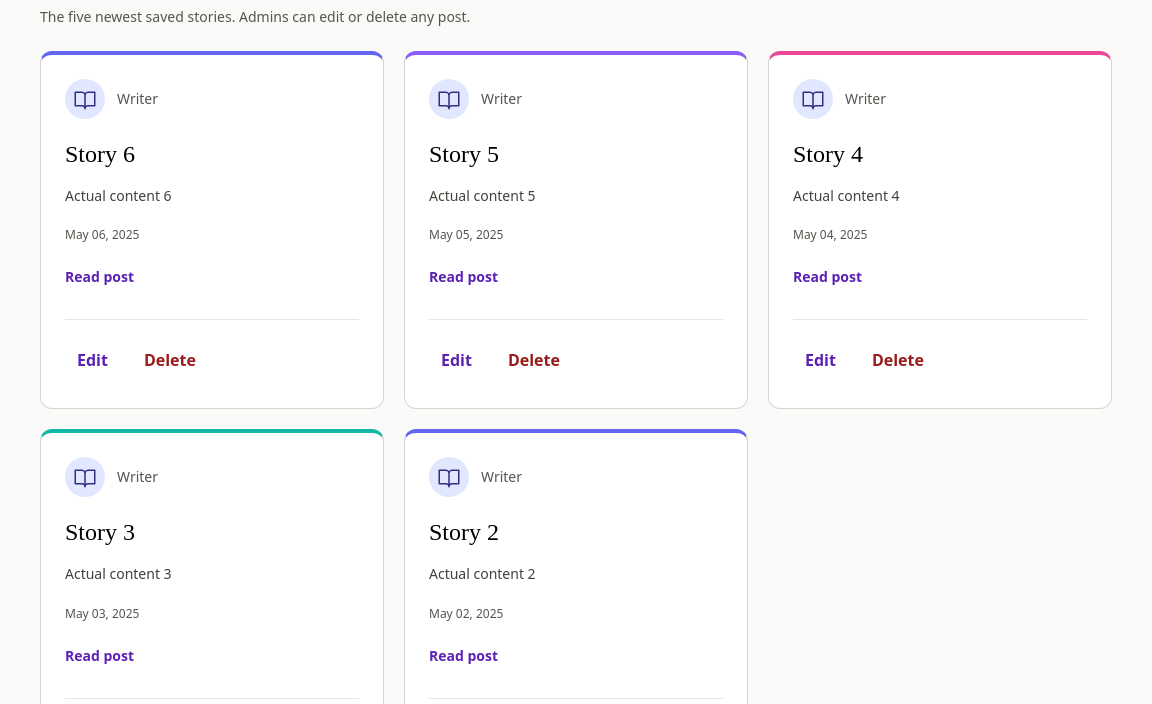
AdminDashboard › preserves counts/list on cancellation or failed deletion, then updates both after confirmed success
(page scrolled)
Click the button "Delete" below "May 06, 2025".
click(170, 360)  # box [132,336,208,384]
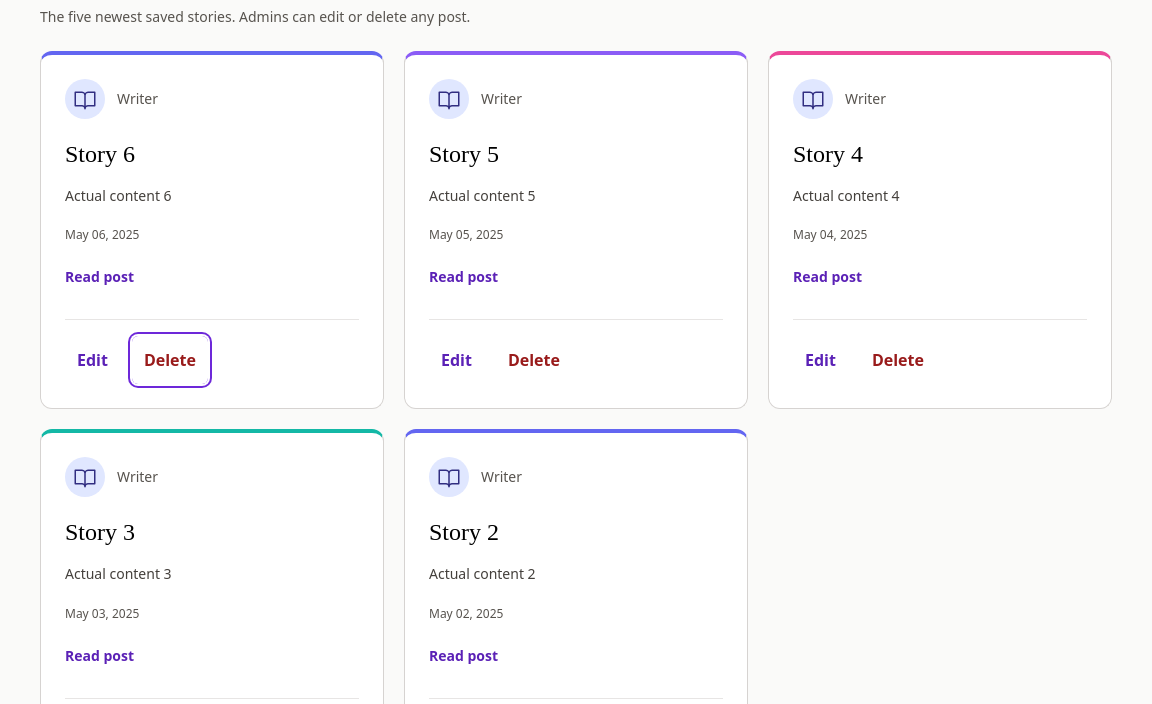
Click the button "Delete" below "May 06, 2025".
click(170, 360)  # box [132,336,208,384]
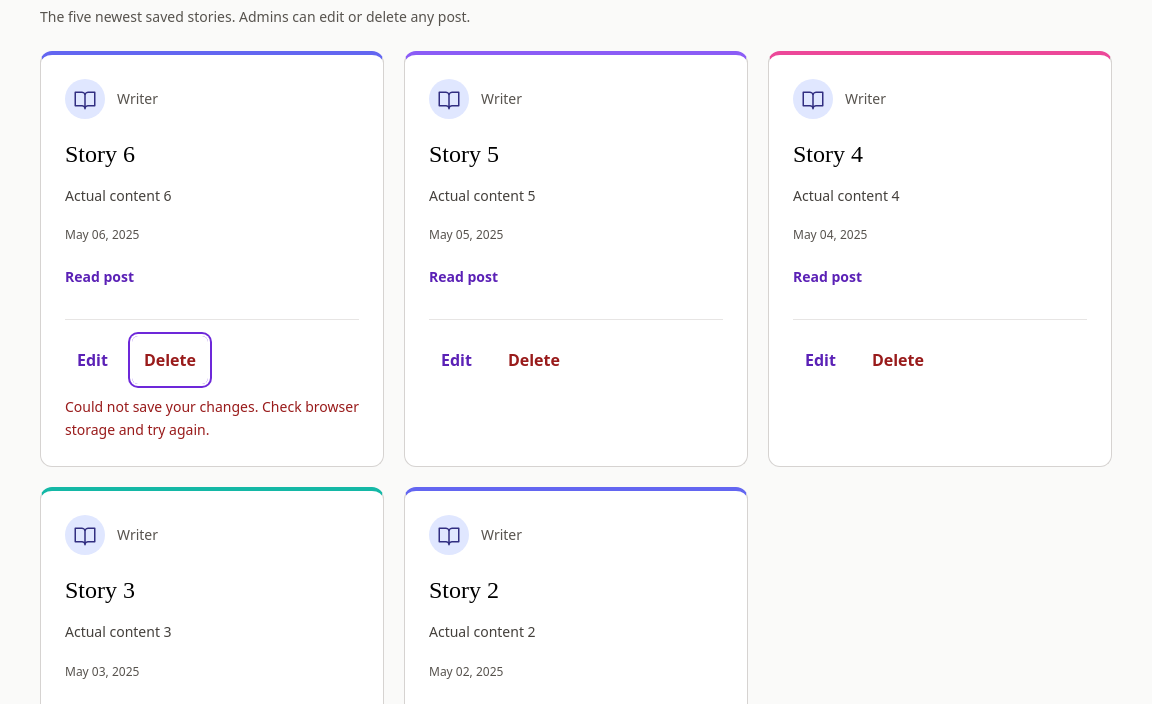
Expected: the heading "Story 6" is shown, [65,140,135,166]
Now the message shows "Could not save your changes.", box [65,397,359,439]
Click the button "Delete" below "May 06, 2025".
click(170, 360)  # box [132,336,208,384]
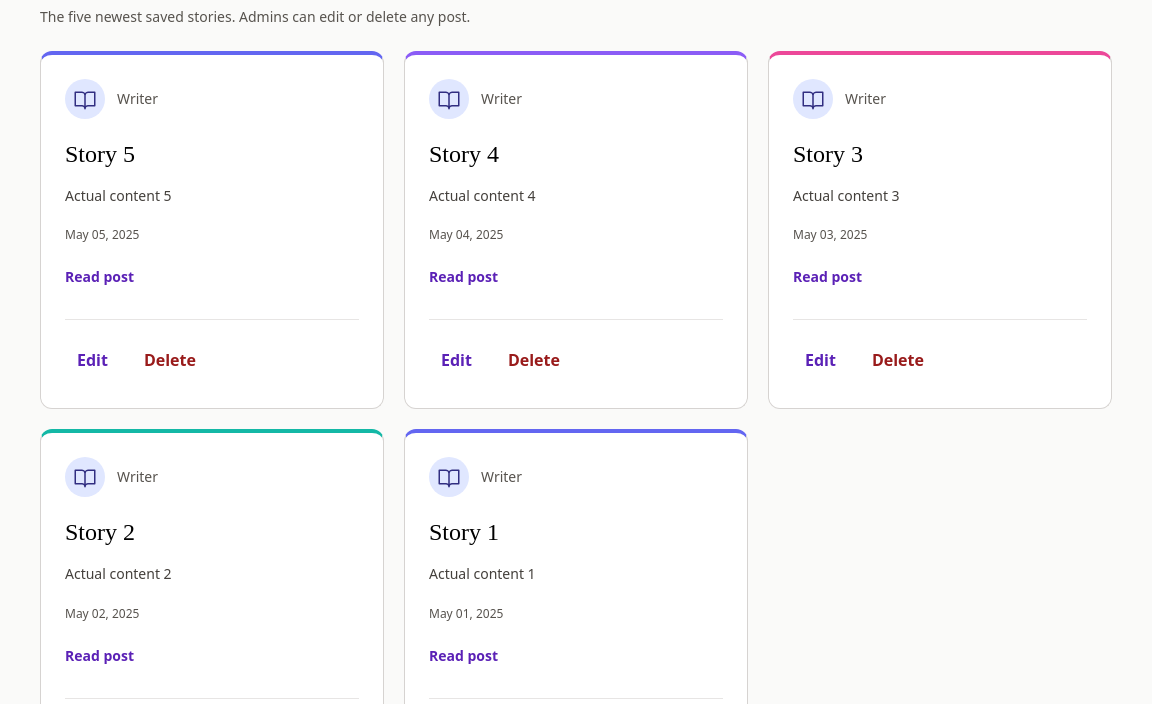
Now the link "Story 6" is gone
Now the heading "Story 1" is shown, box [429,519,499,545]
Now the message "Could not save your changes. Check browser storage and try again." is gone
